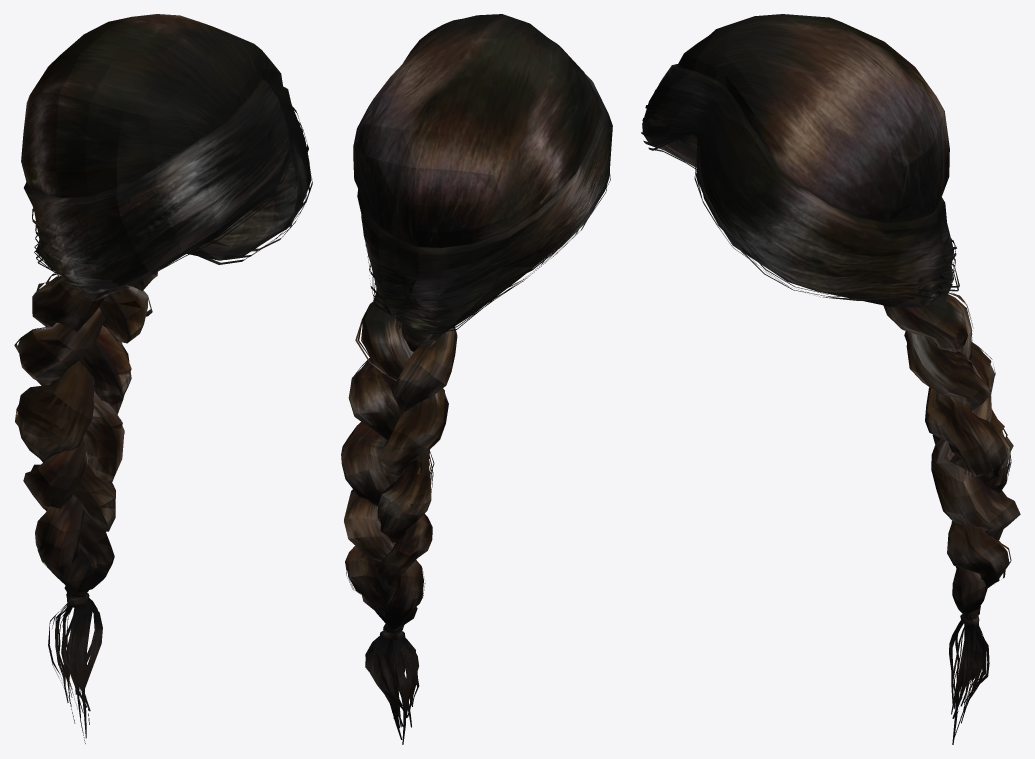
The model's file is braid01.obj.
3 renders of one model, left to right at view 1: azimuth 30°, elevation 25°; view 2: azimuth 150°, elevation 25°; view 3: azimuth 270°, elevation 25°, orthographic. The views are drawn at different scales.
Size of the model in its own units: 0.2065 by 0.6556 by 0.3129.
Materials: 1 (1 with a texture image).
